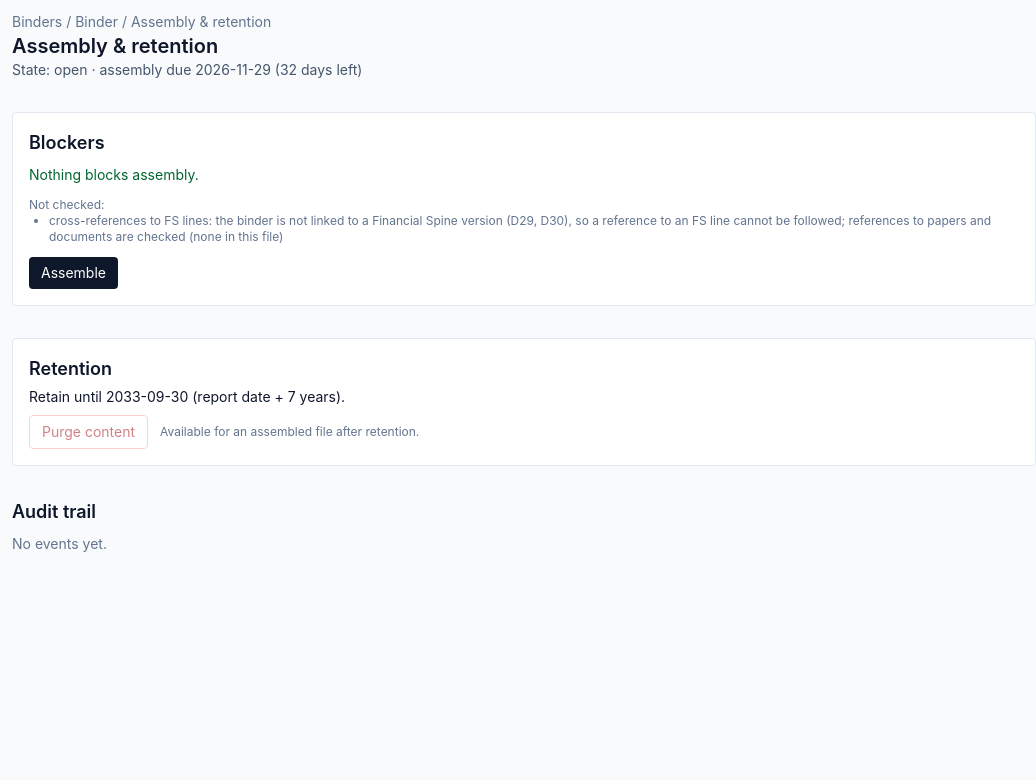
Test: the assembly page reloads blockers after a refused assemble
Step 1. Click the button "Assemble" → [74, 273], box [29,257,118,289]
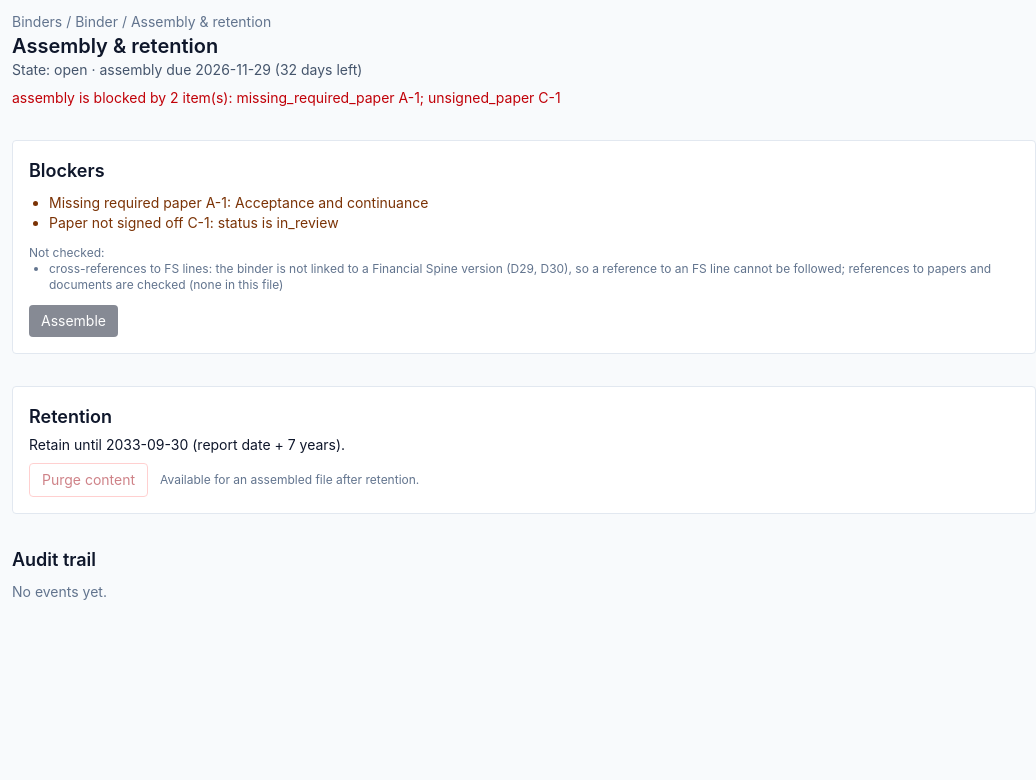
Expected: the message shows "blocked by 2 item(s)", [12,89,561,106]
Expected: the list with test id "blockers" shows "A-1", [202,194,227,211]
Expected: the button "Assemble" is disabled, [29,305,118,337]
